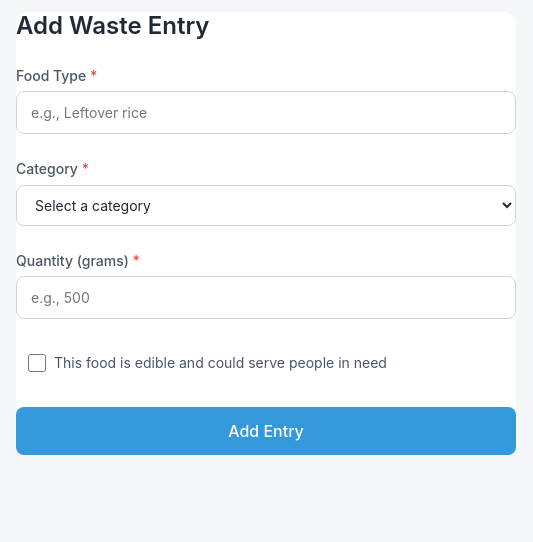
Test: WasteEntryForm › displays validation errors for empty required fields
Click the button with aria-label "add waste entry".
click(266, 431)  # box [16,407,516,455]
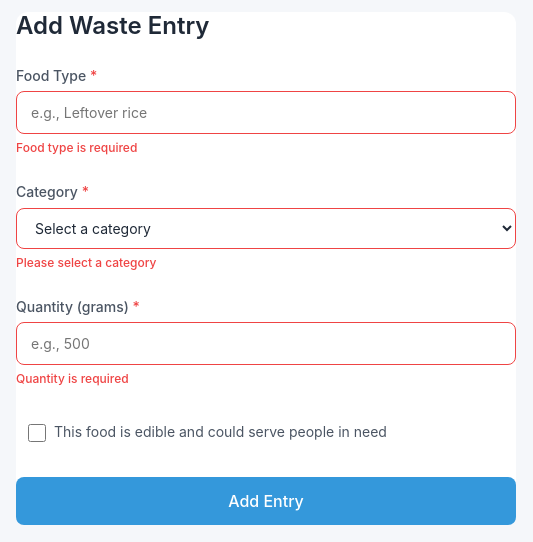
Expected: the text "Food type is required" is shown, [16,140,137,155]
Expected: the text "Please select a category" is shown, [16,255,156,270]
Expected: the text "Quantity is required" is shown, [16,371,129,386]
